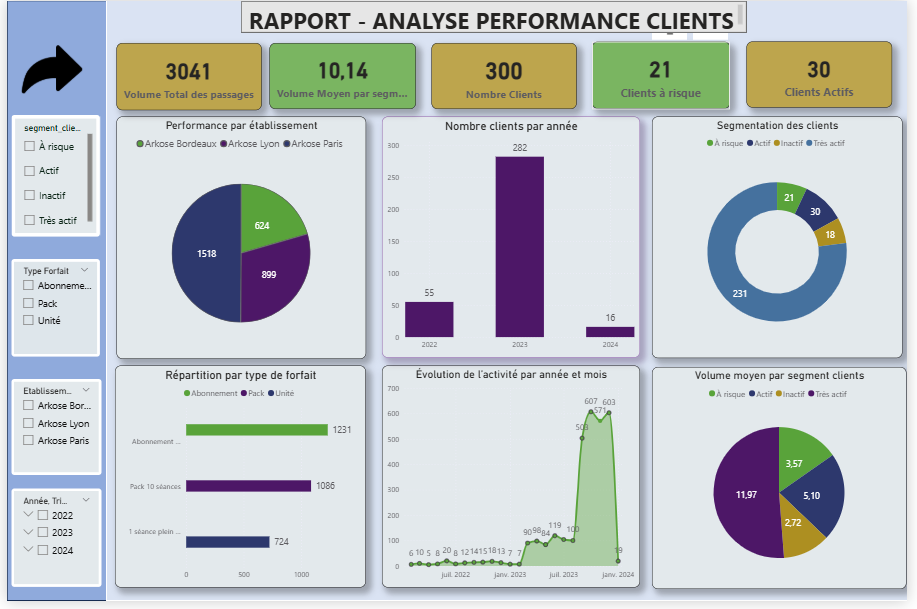

Layout of this report page (visuals, bound fields, positions):
{"tool":"powerbi","page":{"name":"Home","canvas":[1500,1000],"ordinal":0},"visuals":[{"type":"slicer","fields":{"Values":["segmentation_clients.segment_client"]},"box":[7.5,188.8,147.5,202.5],"z":0,"group":"g1"},{"type":"pieChart","title":"Performance par établissement","fields":{"Y":["Clients.Volume Total"],"Series":["Passages.Etablissement"]},"box":[182,192,416,404],"z":0},{"type":"slicer","fields":{"Values":["Passages.Type Forfait"]},"box":[7.5,428.8,147.5,162.5],"z":1000,"group":"g1"},{"type":"clusteredBarChart","title":"Répartition par type de forfait","fields":{"Y":["Clients.Volume Total"],"Category":["Passages.Designation"],"Series":["Passages.Type Forfait"]},"box":[180,608,418,370],"z":1000},{"type":"areaChart","title":"Évolution de l’activité par année et mois","fields":{"Category":["Passages.Date Passage.Variation.Hiérarchie de dates.Année","Passages.Date Passage.Variation.Hiérarchie de dates.Mois"],"Y":["Clients.Volume Total des passages"]},"box":[626,608,430,370],"z":2000},{"type":"slicer","fields":{"Values":["Passages.Date Passage.Variation.Hiérarchie de dates.Année","Passages.Date Passage.Variation.Hiérarchie de dates.Trimestre","Passages.Date Passage.Variation.Hiérarchie de dates.Mois","Passages.Date Passage.Variation.Hiérarchie de dates.Jour","segmentation_clients.Derniere Visite.Variation.Hiérarchie de dates.Année","segmentation_clients.Derniere Visite.Variation.Hiérarchie de dates.Mois"]},"box":[8,810.3,150,164],"z":2000,"group":"g1"},{"type":"columnChart","title":"Nombre clients par année","fields":{"Y":["Clients.Nombre Clients"],"Category":["Passages.Date Passage.Variation.Hiérarchie de dates.Année"]},"box":[626,192,430,402],"z":3000},{"type":"slicer","fields":{"Values":["Passages.Etablissement"]},"box":[7.5,628.8,150,160],"z":3000,"group":"g1"},{"type":"card","fields":{"Values":["Clients.Volume Total"]},"box":[182,70,242,112],"z":4000},{"type":"card","fields":{"Values":["Clients.Nombre Clients"]},"box":[708,70,242,110],"z":5000},{"type":"card","fields":{"Values":["Clients.Clients Risque"]},"box":[976,68,230,112],"z":6000},{"type":"textbox","box":[390,0,842.5,52.5],"z":7000},{"type":"donutChart","title":"Segmentation des clients ","fields":{"Y":["Clients.Nombre Clients"],"Category":["segmentation_clients.segment_client"]},"box":[1075,192.5,417.5,402.5],"z":9000},{"type":"card","fields":{"Values":["Clients.Volume Moyen Segment"]},"box":[438,70,244,110],"z":10000},{"type":"card","fields":{"Values":["Clients.Clients Actifs"]},"box":[1232.5,67.5,242.5,110],"z":11000},{"type":"pieChart","title":"Volume moyen par segment clients","fields":{"Y":["Clients.Volume Moyen par segment"],"Category":["segmentation_clients.segment_client"]},"box":[1076,610,424,370],"z":12000},{"type":"group","id":"g1","title":"Groupe 1","box":[7.5,188.8,150,785],"z":14000},{"type":"actionButton","box":[22.5,52.5,120,120],"z":18000}]}

Visuals, with their boxes in screenshot pixels (x1, y1, x2, y2), scaled from the page's 1500x1000 canvas onto the 917x609 screenshot:
slicer - segmentation_clients.segment_client: bbox=(5, 115, 95, 238)
"Performance par établissement" pieChart: bbox=(111, 117, 366, 363)
slicer - Passages.Type Forfait: bbox=(5, 261, 95, 360)
"Répartition par type de forfait" clusteredBarChart: bbox=(110, 370, 366, 596)
"Évolution de l’activité par année et mois" areaChart: bbox=(383, 370, 646, 596)
slicer - Passages.Date Passage.Variation.Hiérarchie de dates.Année x Passages.Date Passage.Variation.Hiérarchie de dates.Trimestre: bbox=(5, 493, 97, 593)
"Nombre clients par année" columnChart: bbox=(383, 117, 646, 362)
slicer - Passages.Etablissement: bbox=(5, 383, 96, 480)
card - Clients.Volume Total: bbox=(111, 43, 259, 111)
card - Clients.Nombre Clients: bbox=(433, 43, 581, 110)
card - Clients.Clients Risque: bbox=(597, 41, 737, 110)
textbox: bbox=(238, 0, 753, 32)
"Segmentation des clients " donutChart: bbox=(657, 117, 912, 362)
card - Clients.Volume Moyen Segment: bbox=(268, 43, 417, 110)
card - Clients.Clients Actifs: bbox=(753, 41, 902, 108)
"Volume moyen par segment clients" pieChart: bbox=(658, 371, 916, 597)
"Groupe 1" group: bbox=(5, 115, 96, 593)
actionButton: bbox=(14, 32, 87, 105)
